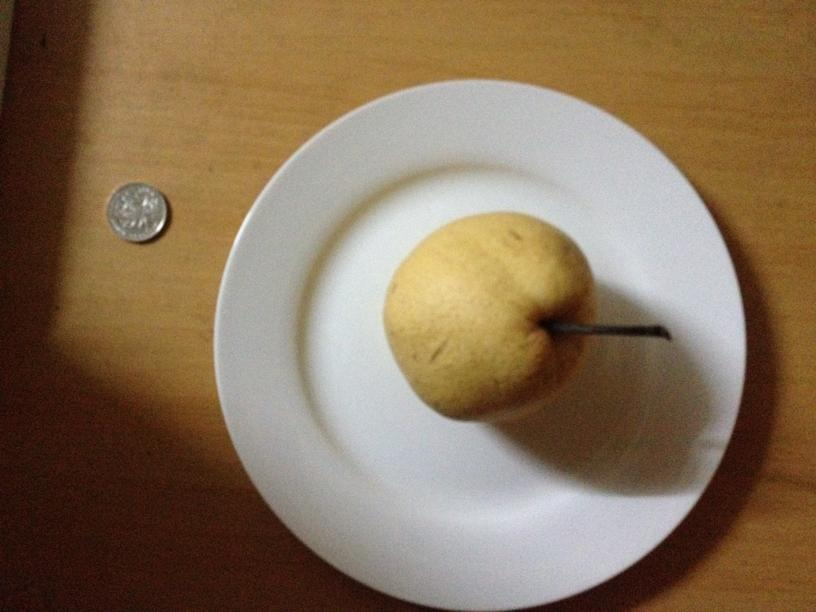coin: (104, 180, 168, 244)
pear: (381, 207, 596, 421)
